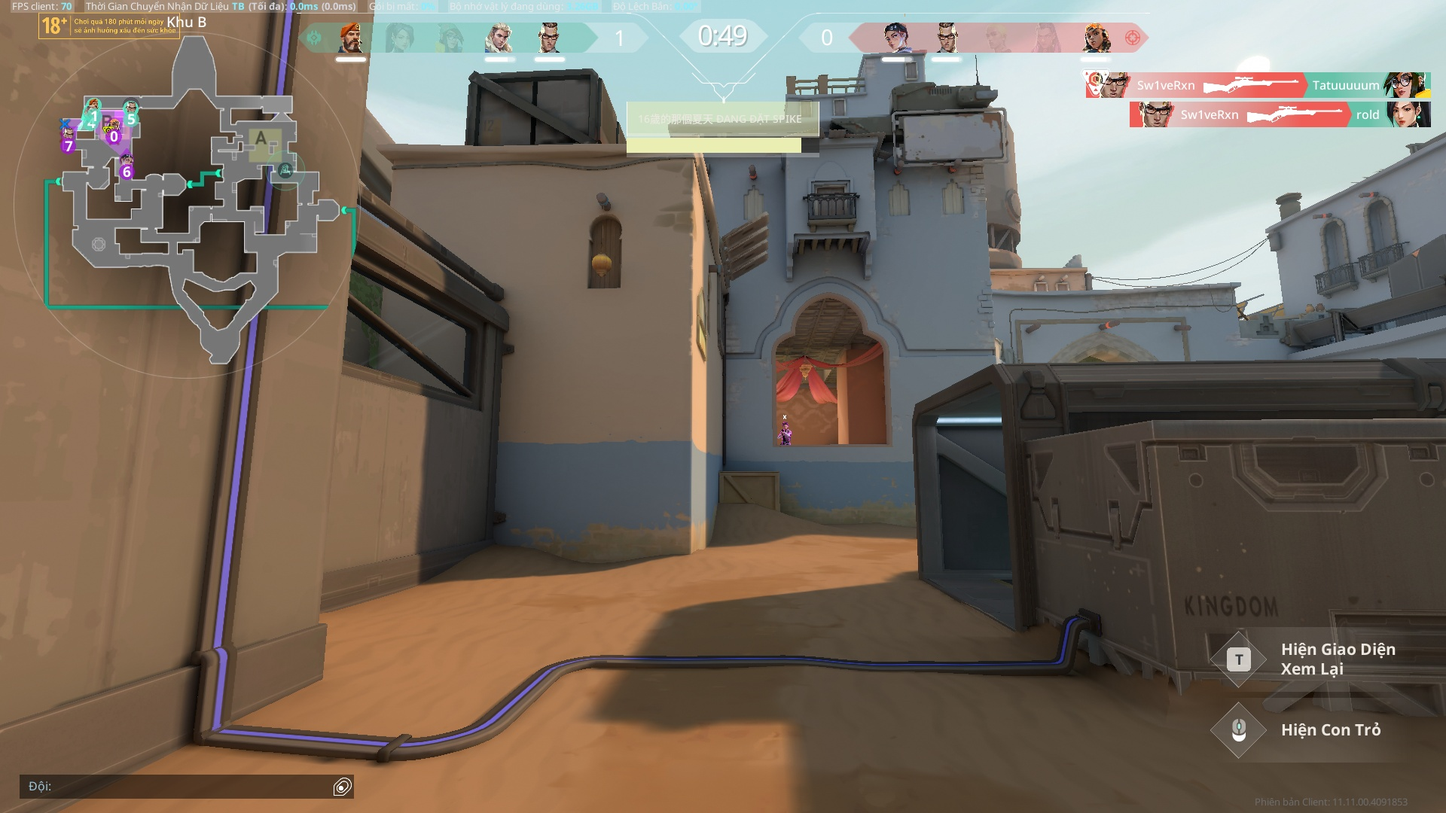body: (780, 428, 791, 443)
head: (782, 421, 789, 428)
